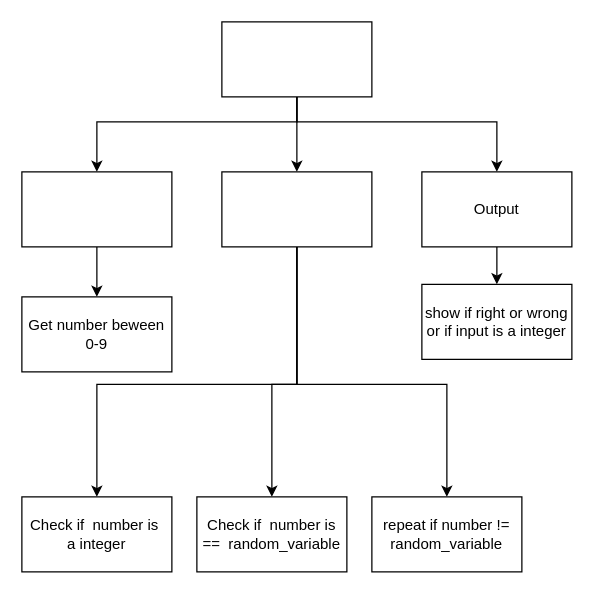
The diagram is 594 pixels wide and 594 high, and some of its shapes have lost their labels. Here are the shapes that lost their labels. From the top down, the box of each, then its label:
(221, 21, 372, 97): Guess the number
(21, 171, 172, 247): Input
(221, 171, 372, 247): Process
